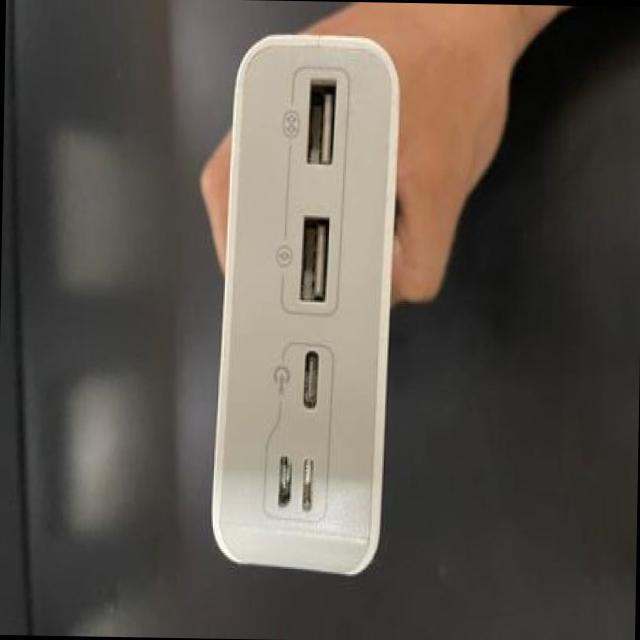portable-charger: (206, 19, 407, 582)
